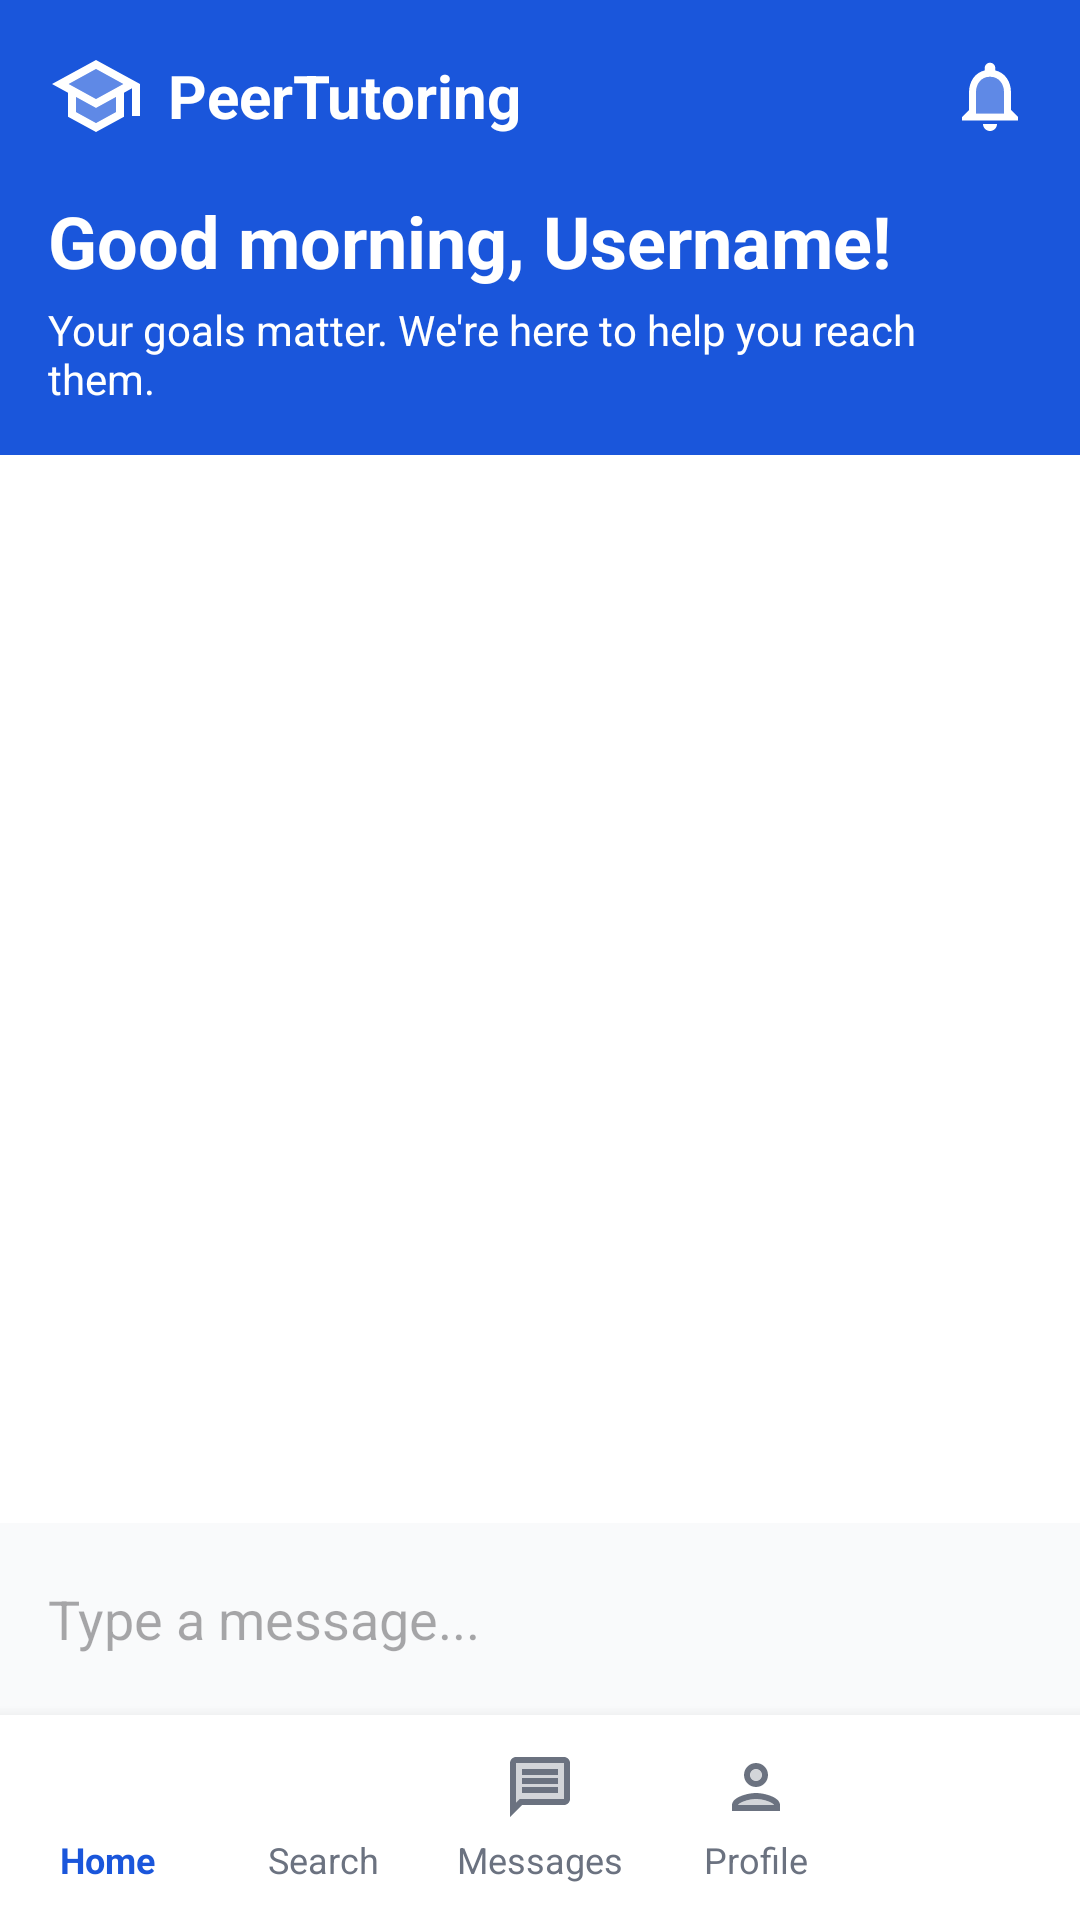

Icons on this 1080*1920 Android screen, each with the point to tap as [x,y]:
notifications: [990,96]
person: [756,1787]
school hat: [96,96]
